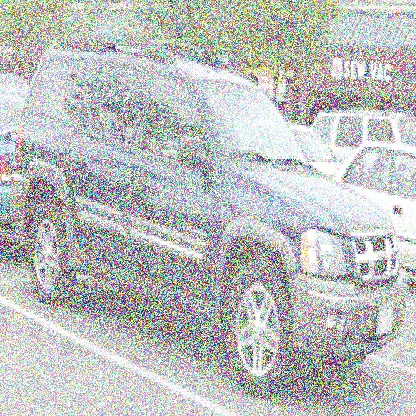Vehicle: (13, 34, 406, 398)
